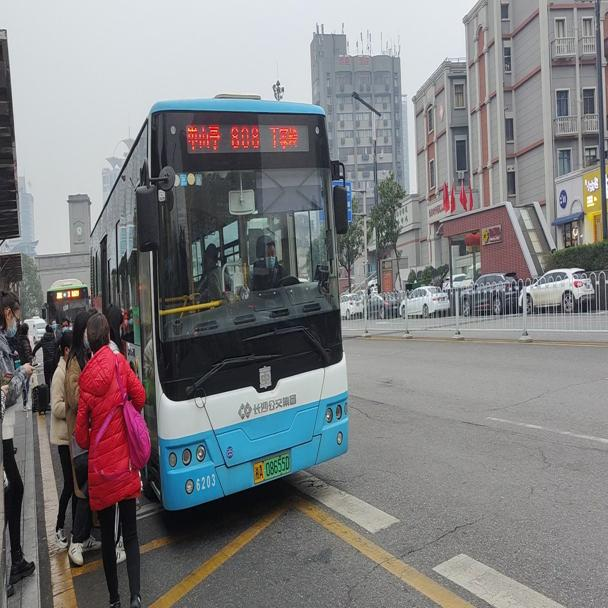bus: (91, 85, 347, 514), (43, 274, 88, 333)
screen: (225, 112, 266, 149)
